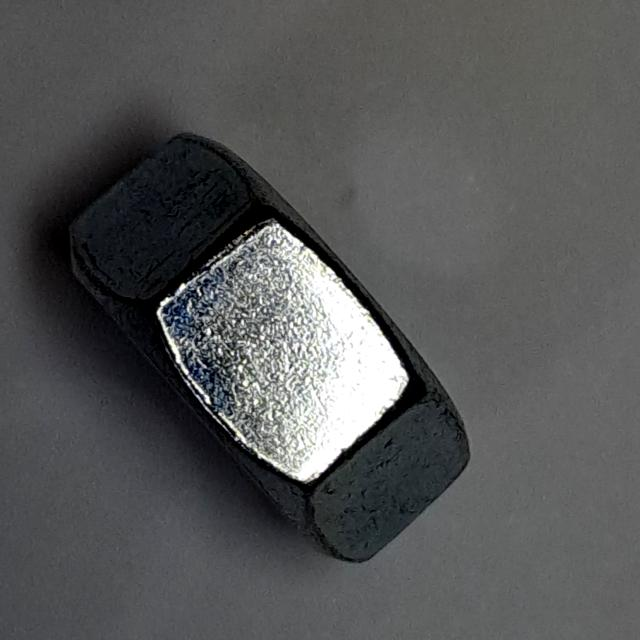Side_Excellent: (54, 124, 489, 575)
